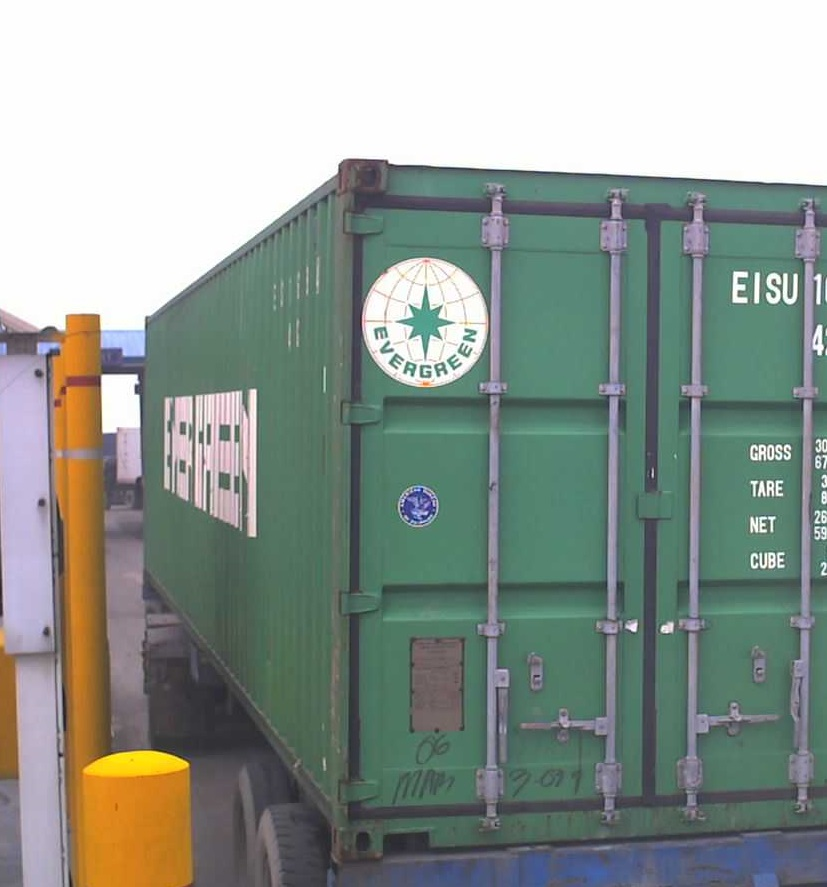container_door: (343, 159, 821, 855)
